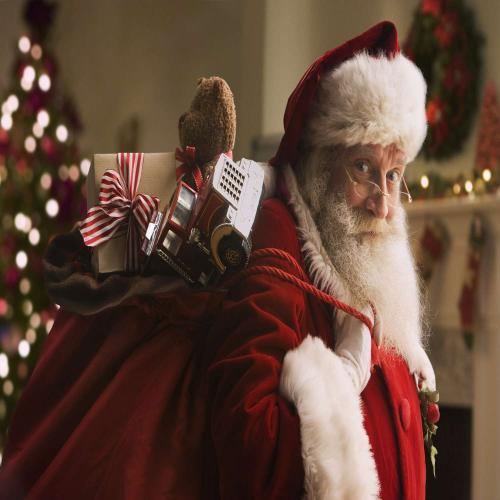Santa: (0, 21, 429, 500)
